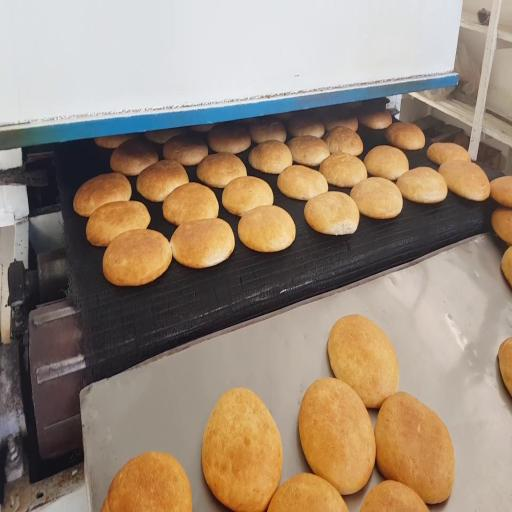bread: (202, 389, 282, 511), (299, 378, 375, 494), (375, 392, 454, 503), (328, 315, 398, 408), (102, 453, 192, 511), (103, 229, 171, 286), (171, 219, 234, 268), (268, 474, 348, 511), (86, 202, 150, 246), (238, 205, 295, 252), (74, 173, 131, 217), (304, 192, 359, 235), (163, 183, 218, 225), (351, 177, 402, 219), (136, 160, 188, 201), (439, 161, 490, 201), (222, 176, 273, 216), (361, 481, 428, 511), (397, 167, 447, 203), (110, 138, 158, 175), (278, 165, 328, 200), (197, 153, 246, 188), (320, 153, 367, 187), (364, 146, 409, 180), (249, 140, 292, 173), (163, 136, 208, 165), (288, 136, 330, 166), (208, 124, 250, 154), (324, 127, 363, 156), (386, 122, 425, 150), (427, 143, 471, 164), (249, 119, 286, 143), (288, 113, 324, 137), (498, 338, 511, 395), (491, 208, 511, 245), (144, 128, 186, 144), (358, 110, 392, 129), (95, 134, 137, 149), (491, 176, 511, 207), (324, 113, 358, 131), (501, 247, 511, 286), (190, 124, 214, 132), (274, 112, 295, 121), (344, 101, 362, 110)
